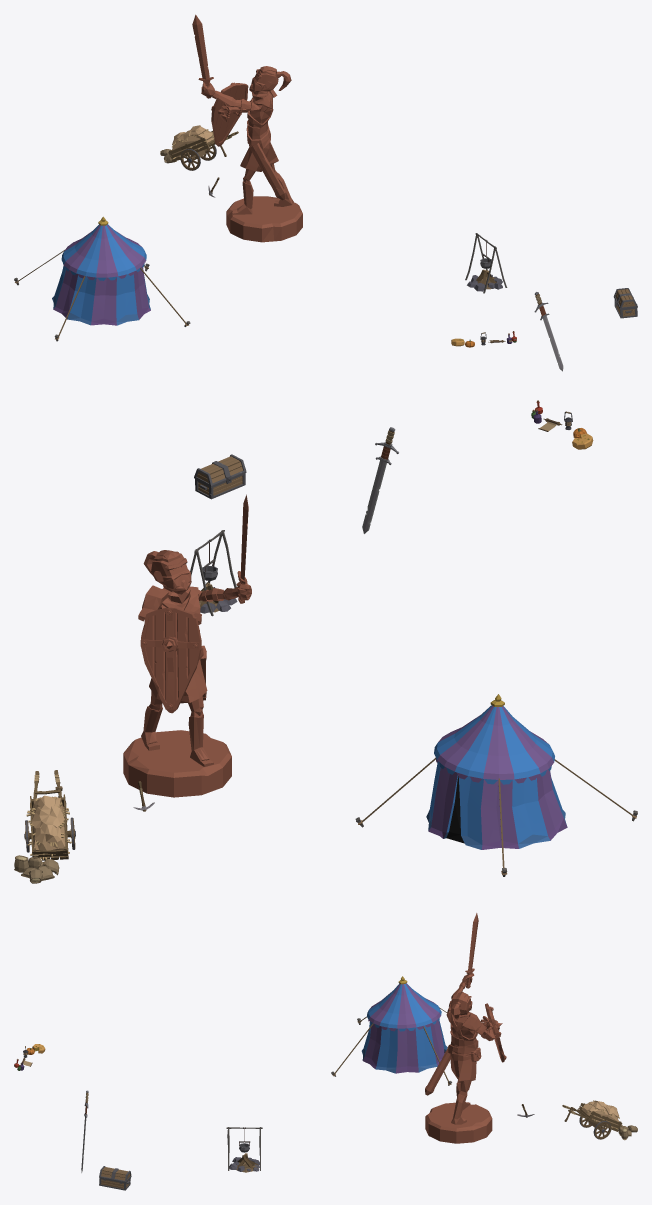
The picture shows the model from 3 angles, top to bottom: view 1: azimuth 30°, elevation 25°; view 2: azimuth 150°, elevation 25°; view 3: azimuth 270°, elevation 25°; orthographic projection. The views are drawn at different scales.
Visible parts, largest first — view 1: SM_Prop_Statue_01 (1), SM_Bld_Tent_01, SM_Prop_CartHay_01, SM_Prop_CampFire_01; view 2: SM_Prop_Statue_01 (1), SM_Bld_Tent_01, SM_Prop_CartHay_01, SM_Prop_CampFire_01, SM_Prop_Chest_Lid_01, SM_Wep_Zweihander_01; view 3: SM_Prop_Statue_01 (1), SM_Bld_Tent_01, SM_Prop_CartHay_01, SM_Prop_CampFire_01.
Boxes of the visible parts, x1=… form: SM_Prop_Statue_01 (1): x1=192, y1=14, x2=302, y2=242; SM_Bld_Tent_01: x1=14, y1=216, x2=190, y2=341; SM_Prop_CartHay_01: x1=168, y1=125, x2=238, y2=170; SM_Prop_CampFire_01: x1=465, y1=233, x2=507, y2=293; SM_Prop_Statue_01 (1): x1=123, y1=494, x2=251, y2=797; SM_Bld_Tent_01: x1=355, y1=694, x2=637, y2=876; SM_Prop_CartHay_01: x1=24, y1=770, x2=75, y2=860; SM_Prop_CampFire_01: x1=190, y1=530, x2=237, y2=616; SM_Prop_Chest_Lid_01: x1=194, y1=454, x2=246, y2=486; SM_Wep_Zweihander_01: x1=362, y1=427, x2=398, y2=533; SM_Prop_Statue_01 (1): x1=425, y1=913, x2=506, y2=1143; SM_Bld_Tent_01: x1=331, y1=976, x2=451, y2=1085; SM_Prop_CartHay_01: x1=562, y1=1100, x2=622, y2=1139; SM_Prop_CampFire_01: x1=226, y1=1127, x2=262, y2=1172.
Bounding box in the file's own units: 21.57 × 10.74 × 29.85.
2 materials, 2 textured.
